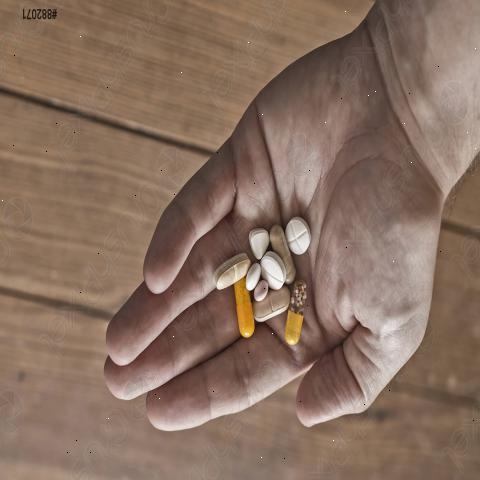Pill: (280, 210, 317, 258), (208, 250, 248, 284), (260, 251, 284, 295), (245, 224, 269, 261)
